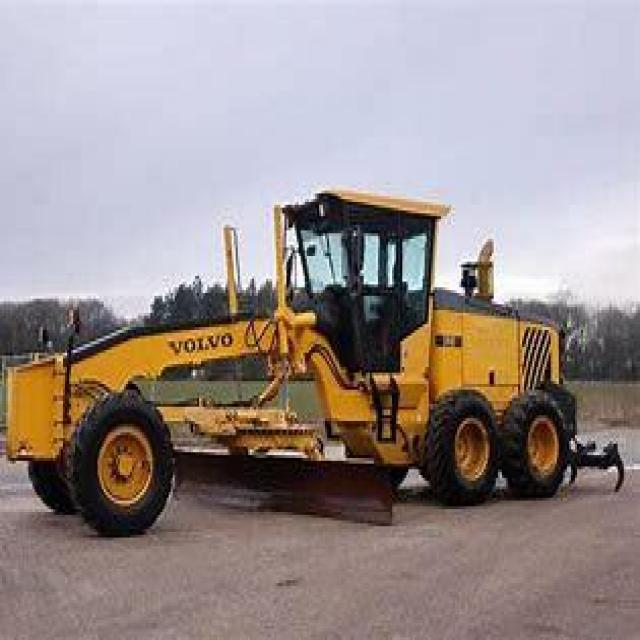Grader: (4, 177, 630, 538)
